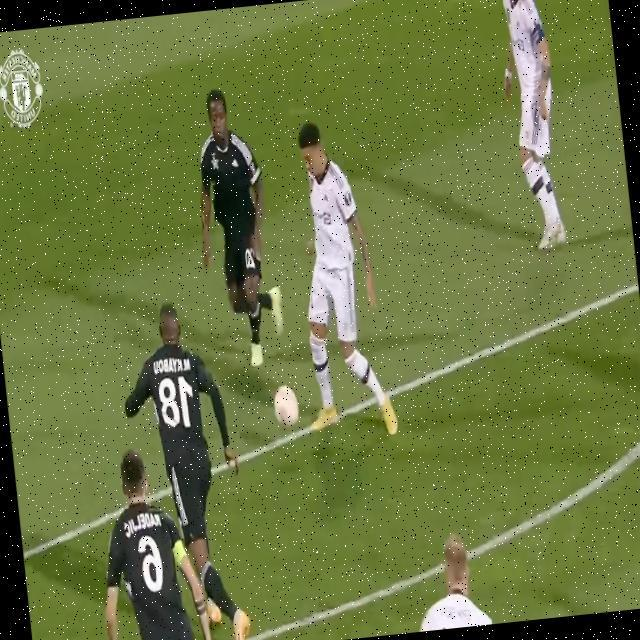Adidas: (322, 189, 331, 204)
